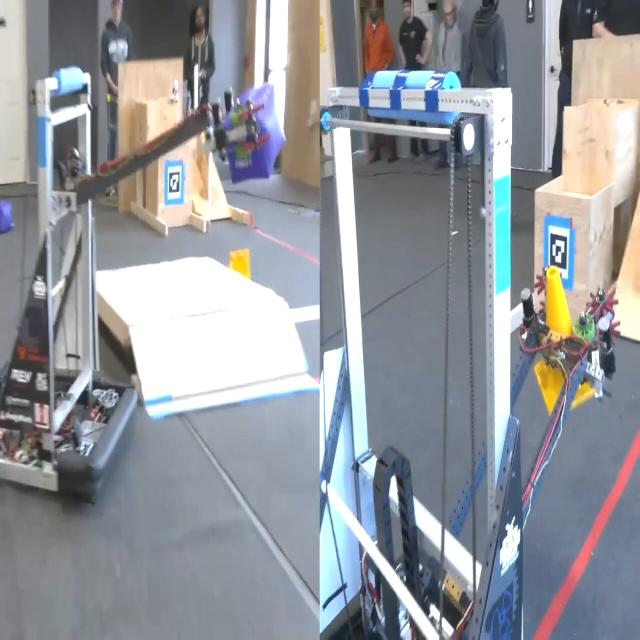frc_cone: (533, 266, 598, 404), (224, 247, 258, 289)
frc_cube: (220, 82, 284, 184), (0, 196, 18, 242)
